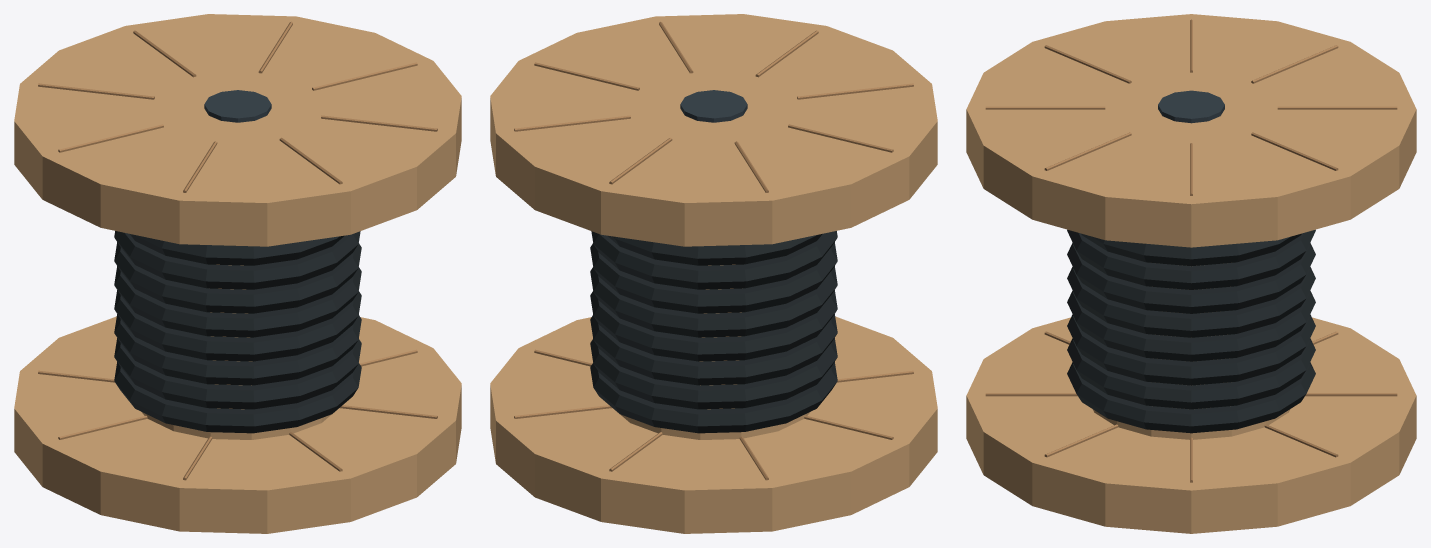
Rendered from Cable_Spool.glb.
3 renders of one model, left to right at view 1: azimuth 30°, elevation 25°; view 2: azimuth 150°, elevation 25°; view 3: azimuth 270°, elevation 25°, orthographic.
Visible parts, largest first — view 1: Cable_Spool; view 2: Cable_Spool; view 3: Cable_Spool.
Part boxes in pixels (left/top/right/bottom): Cable_Spool: left=14, top=14, right=461, bottom=533; Cable_Spool: left=490, top=14, right=937, bottom=533; Cable_Spool: left=966, top=14, right=1416, bottom=533.
Size of the model in its own units: 0.94 by 0.77 by 0.94.
